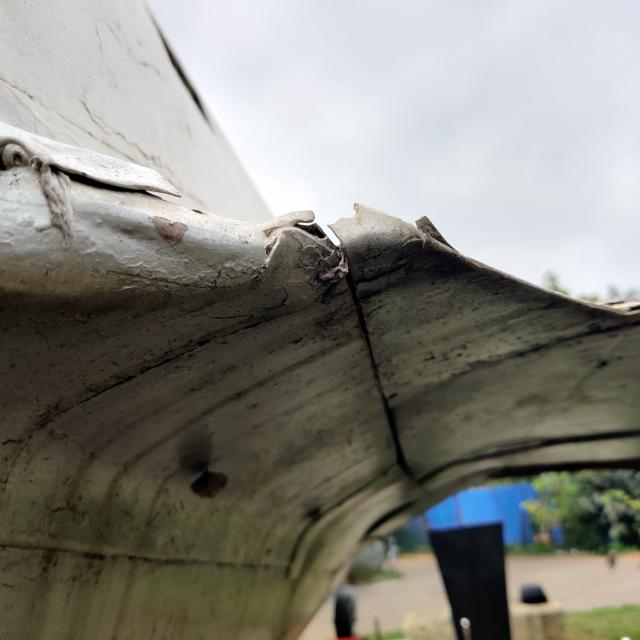crack: (346, 173, 472, 277), (267, 194, 352, 282)
